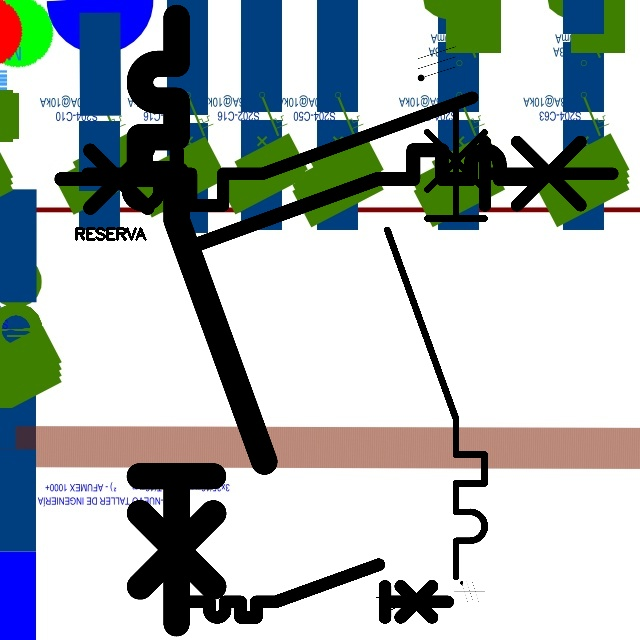interruptor_termomagnetico: (124, 2, 280, 639), (74, 84, 626, 219), (49, 138, 548, 260), (375, 91, 497, 588), (183, 558, 454, 624)
